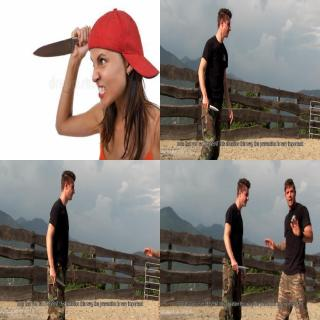knife: (29, 28, 79, 66), (47, 269, 66, 288), (200, 97, 220, 113), (230, 261, 250, 273)
